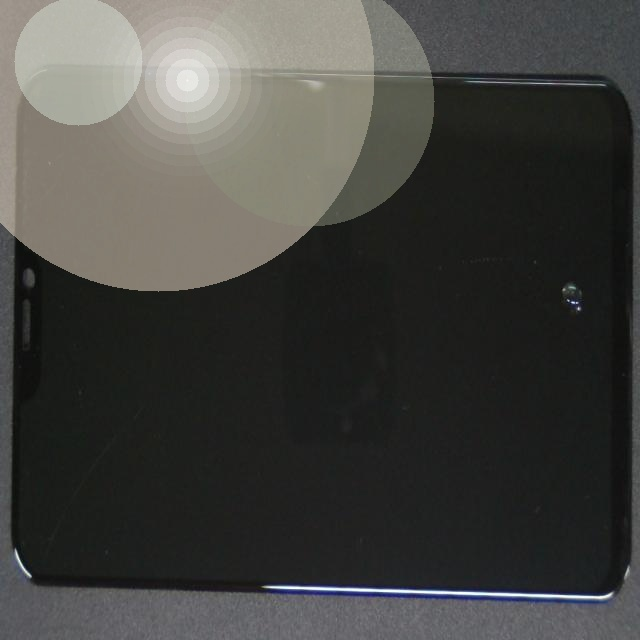oil: (289, 110, 640, 408)
